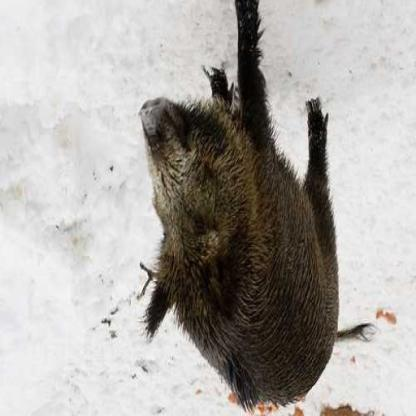boar: (115, 0, 386, 397)
